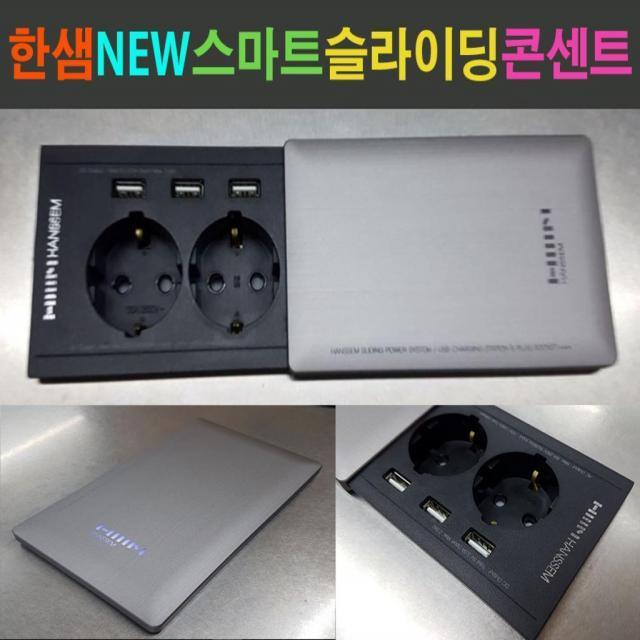typeb: (37, 133, 292, 391), (348, 409, 619, 619)
